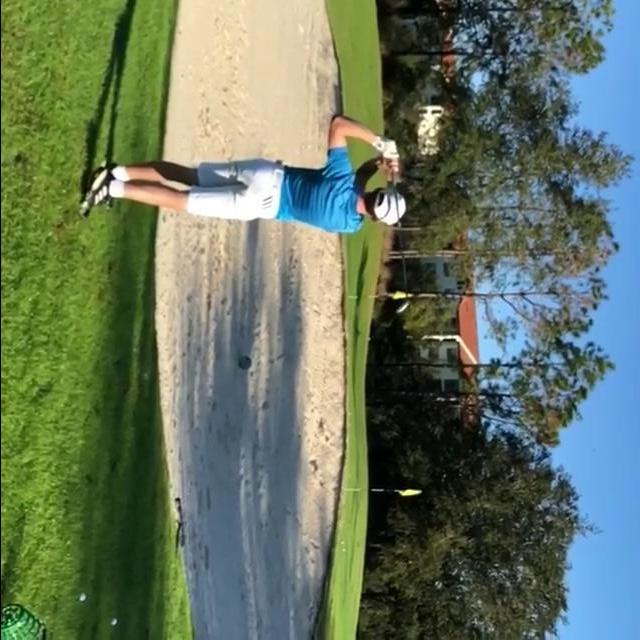golf ball: (77, 593, 84, 603), (109, 618, 116, 626)
golf club-handle: (385, 135, 411, 316)
golf club-head: (393, 300, 409, 314)
